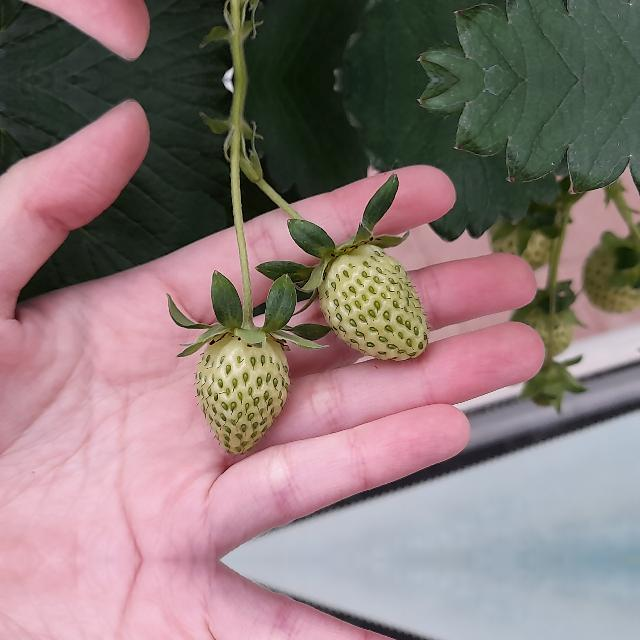Health_25: (319, 242, 431, 361), (194, 332, 290, 454)
